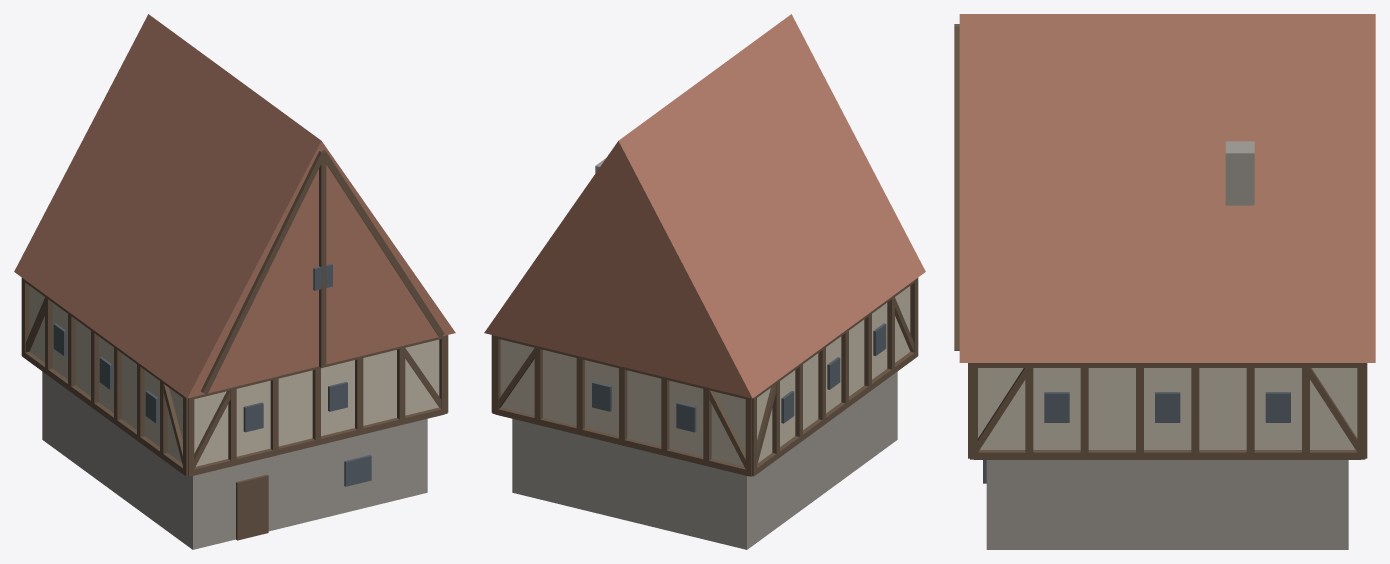
Rendered from m_haus_c.glb.
3 views of the same model, side by side, from view 1: azimuth 30°, elevation 25°; view 2: azimuth 150°, elevation 25°; view 3: azimuth 270°, elevation 25° (orthographic). The views are drawn at different scales.
Visible parts, largest first — view 1: koerper; view 2: koerper; view 3: koerper.
Part boxes in pixels (<box>): koerper: <box>14,14,455,549</box>; koerper: <box>484,14,925,549</box>; koerper: <box>954,14,1375,549</box>.
Bounding box in the file's own units: 10.3 × 14.24 × 11.65.
